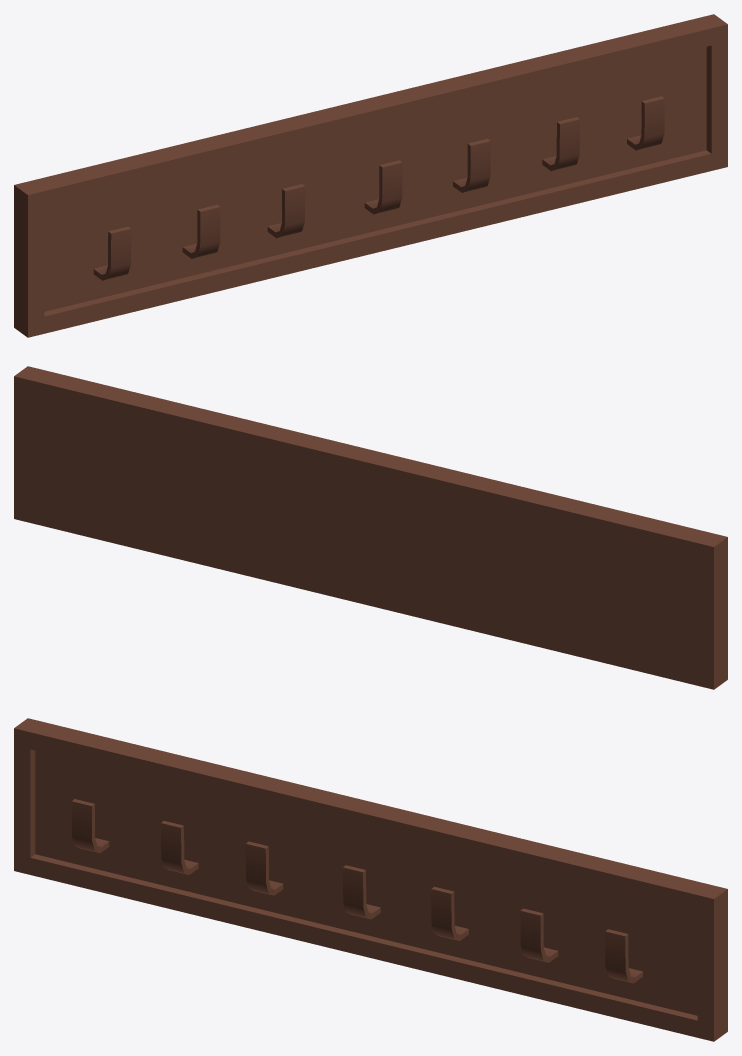
File: ClothingRack_01.fbx
3 views of the same model, one above another, from view 1: azimuth 30°, elevation 25°; view 2: azimuth 150°, elevation 25°; view 3: azimuth 330°, elevation 25° (orthographic).
Visible parts, largest first — view 1: ClothingRack_01; view 2: ClothingRack_01; view 3: ClothingRack_01.
Boxes of the visible parts, bbox=[...] form: ClothingRack_01: bbox=[14, 14, 727, 337]; ClothingRack_01: bbox=[14, 366, 727, 689]; ClothingRack_01: bbox=[14, 718, 727, 1041].
Size of the model in its own units: 0.8224 by 0.1602 by 0.0543.
